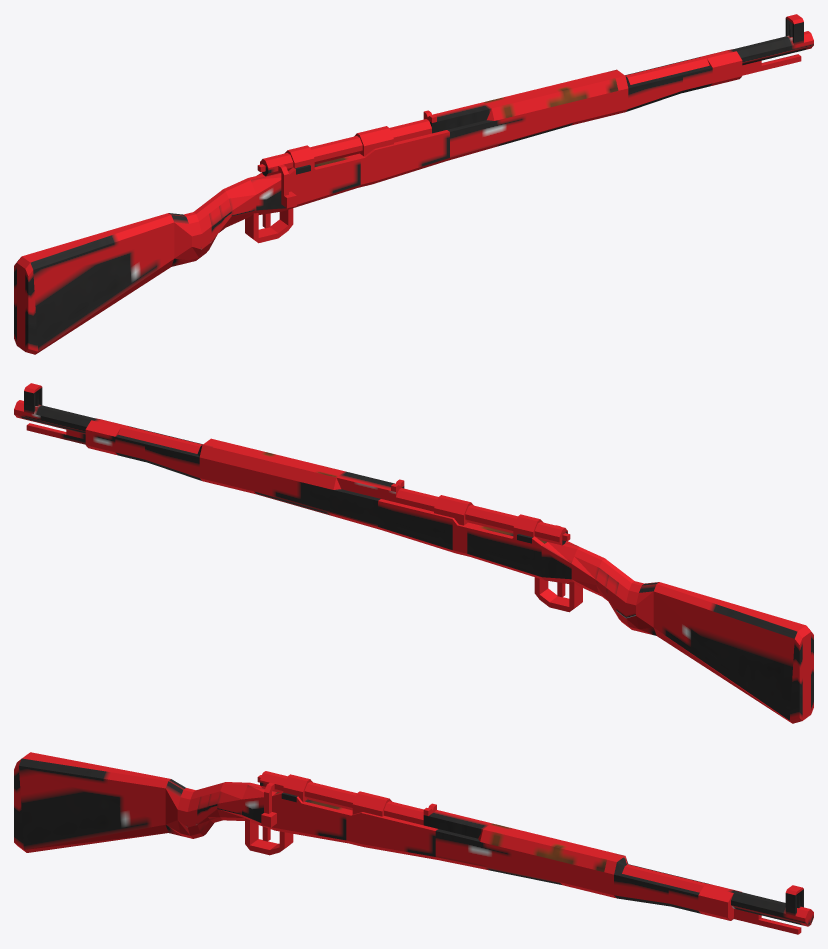
Rendered from ModelKar98k.obj.
3 renders of one model, top to bottom at view 1: azimuth 30°, elevation 25°; view 2: azimuth 150°, elevation 25°; view 3: azimuth 330°, elevation 25°, orthographic.
Parts seen in each view (by area): view 1: gunModel, pumpModel; view 2: gunModel, pumpModel; view 3: gunModel, pumpModel.
Part boxes in pixels (x1,y1,x2,y2): gunModel: (14,14,813,354); pumpModel: (257,136,362,208); gunModel: (14,383,813,723); pumpModel: (465,505,570,545); gunModel: (14,752,813,934); pumpModel: (257,771,356,827).
Bounding box in the file's own units: 159 × 28.5 × 7.
